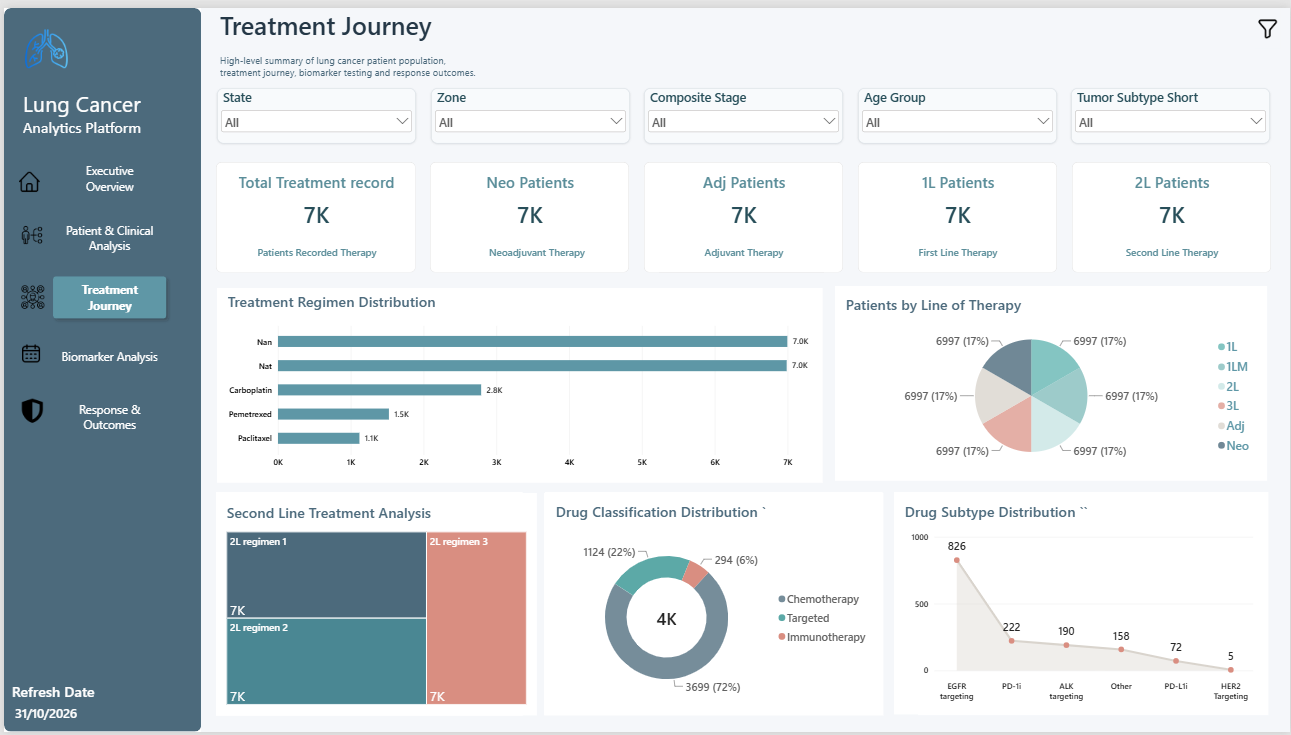

The dashboard page shown, as its layout file describes it:
{"tool":"powerbi","page":{"name":"Treatment Journey","canvas":[1920,1080],"ordinal":2},"visuals":[{"type":"shape","title":"Plane","box":[0,0,294.5,1080.4],"z":0,"group":"g1"},{"type":"group","id":"g1","title":"Filter Plane","box":[0,0,294.5,1080.4],"z":0,"group":"g5"},{"type":"textbox","box":[323.1,0,656.3,108.4],"z":0},{"type":"cardVisual","fields":{"Data":["LOT.Total Treatment record"]},"box":[316.3,229.7,298.7,165.8],"z":0,"group":"g2"},{"type":"image","box":[24.1,302.3,36.3,72.7],"z":0,"group":"g3"},{"type":"textbox","box":[11.4,1006.2,174.9,31.8],"z":0,"group":"g8"},{"type":"image","box":[27.8,16.7,69.7,89.1],"z":1000,"group":"g1"},{"type":"pageNavigator","box":[63.6,213.8,187.1,438.2],"z":1000,"group":"g5"},{"type":"cardVisual","fields":{"Data":["LOT.Neo Patients"]},"box":[636.2,229.7,297.9,165.8],"z":1000,"group":"g2"},{"type":"shape","box":[318,418,904,290.7],"z":1000},{"type":"image","box":[24.1,576.5,36.6,50.4],"z":1000,"group":"g3"},{"type":"shape","box":[806.3,724.3,506.5,331.9],"z":1000,"group":"g6"},{"type":"cardVisual","fields":{"Data":["Dim_Patient.Refresh Date Display"]},"box":[0,1038,156.7,31],"z":1000,"group":"g8"},{"type":"slicer","fields":{"Values":["Dim_Patient.Tumor Subtype Short"]},"box":[1592.9,120.1,297.4,83.3],"z":2000,"group":"g7"},{"type":"textbox","box":[27.8,120.5,183.4,92.7],"z":2000,"group":"g1"},{"type":"image","box":[23.1,228.2,31.4,61.6],"z":2000,"group":"g3"},{"type":"group","id":"g2","title":"KPIs","box":[316.3,229.7,1575,165.8],"z":2000},{"type":"cardVisual","fields":{"Data":["LOT.1L Patients"]},"box":[1274.3,229.7,297.9,165],"z":2000,"group":"g2"},{"type":"group","id":"g3","title":"Group 3","box":[23.1,228.2,37.6,398.6],"z":3000,"group":"g1"},{"type":"cardVisual","fields":{"Data":["LOT.Adj Patients"]},"box":[955.2,229.7,297.9,165.8],"z":3000,"group":"g2"},{"type":"image","box":[25.9,405.8,34.8,50.4],"z":3000,"group":"g3"},{"type":"group","id":"g4","title":"Group 4","box":[1239.7,413,645.5,292.5],"z":3000},{"type":"shape","box":[1240.2,414.8,645.1,290.7],"z":3000,"group":"g4"},{"type":"slicer","fields":{"Values":["Dim_Patient.Age Group"]},"box":[1274.1,120.1,297.4,83.3],"z":4000,"group":"g7"},{"type":"cardVisual","fields":{"Data":["LOT.2L Patients"]},"box":[1593.4,229.7,297.9,165.8],"z":4000,"group":"g2"},{"type":"barChart","title":"Treatment Regimen Distribution","fields":{"Category":["LOT.Drug"],"Y":["LOT.Total Treatment record"]},"box":[318,408.8,906.3,297.5],"z":4000},{"type":"image","box":[27.7,481.3,27.5,67.2],"z":4000,"group":"g3"},{"type":"group","id":"g5","title":"Group 6","box":[0,0,294.5,1080.4],"z":5000},{"type":"slicer","fields":{"Values":["Dim_Patient.Zone"]},"box":[636.4,120.1,297.4,83.3],"z":5000,"group":"g7"},{"type":"donutChart","title":"Drug Classification Distribution `","fields":{"Category":["LOT.Classification"],"Y":["LOT.Total Treatment record"]},"box":[807.5,722.3,503.9,332.6],"z":5000,"group":"g6"},{"type":"slicer","fields":{"Values":["lung_cancer_analysis.COMPOSITE STAGE"]},"box":[955.3,120.1,297.4,83.3],"z":6000,"group":"g7"},{"type":"shape","box":[1363.5,722.4,522.9,333.1],"z":6000},{"type":"shape","box":[316.7,722.5,457.7,334],"z":7000},{"type":"lineChart","title":"Drug Subtype Distribution ``","fields":{"Category":["LOT.SubType"],"Y":["LOT.Total Treatment record"]},"box":[1328.7,722.3,556.5,331.6],"z":8000},{"type":"treemap","title":"Second Line Treatment Analysis","fields":{"Group":["secondline_treatment.variable"],"Values":["LOT.Total Treatment record"]},"box":[315.7,724.5,479.2,331.6],"z":9000},{"type":"image","box":[1867,0,38,61],"z":10000},{"type":"pieChart","title":"Patients by Line of Therapy","fields":{"Category":["LOT.flag"],"Y":["Count(LOT.patient id)"]},"box":[1239.7,413,642.8,288.5],"z":10002,"group":"g4"},{"type":"group","id":"g6","title":"Group 1","box":[806.3,722.3,506.5,333.9],"z":11000},{"type":"group","id":"g7","title":"Group 2","box":[317.6,120.1,1572.7,83.3],"z":12000},{"type":"slicer","fields":{"Values":["Dim_Patient.State"]},"box":[317.6,120.1,297.4,83.3],"z":12001,"group":"g7"},{"type":"textbox","box":[1274.2,354,298.4,42.6],"z":13000},{"type":"textbox","box":[1634.2,354,217.9,47.4],"z":14000},{"type":"textbox","box":[646.6,354,298.4,43],"z":15000},{"type":"textbox","box":[954.5,354,298.4,28.4],"z":16000},{"type":"textbox","box":[317.4,354,298.4,43],"z":17000},{"type":"group","id":"g8","title":"Group 1","box":[0,1006.2,186.2,62.8],"z":17001}]}

Visuals, with their boxes on the page's 1920x1080 design canvas (x1, y1, x2, y2). These are canvas units, not pixel positions in the 1291x735 screenshot, which may show the page scaled, cropped or inside an application window:
"Plane" shape: (x1=0, y1=0, x2=294, y2=1080)
"Filter Plane" group: (x1=0, y1=0, x2=294, y2=1080)
textbox: (x1=323, y1=0, x2=979, y2=108)
cardVisual - LOT.Total Treatment record: (x1=316, y1=230, x2=615, y2=396)
image: (x1=24, y1=302, x2=60, y2=375)
textbox: (x1=11, y1=1006, x2=186, y2=1038)
image: (x1=28, y1=17, x2=98, y2=106)
pageNavigator: (x1=64, y1=214, x2=251, y2=652)
cardVisual - LOT.Neo Patients: (x1=636, y1=230, x2=934, y2=396)
shape: (x1=318, y1=418, x2=1222, y2=709)
image: (x1=24, y1=576, x2=61, y2=627)
shape: (x1=806, y1=724, x2=1313, y2=1056)
cardVisual - Dim_Patient.Refresh Date Display: (x1=0, y1=1038, x2=157, y2=1069)
slicer - Dim_Patient.Tumor Subtype Short: (x1=1593, y1=120, x2=1890, y2=203)
textbox: (x1=28, y1=120, x2=211, y2=213)
image: (x1=23, y1=228, x2=54, y2=290)
"KPIs" group: (x1=316, y1=230, x2=1891, y2=396)
cardVisual - LOT.1L Patients: (x1=1274, y1=230, x2=1572, y2=395)
"Group 3" group: (x1=23, y1=228, x2=61, y2=627)
cardVisual - LOT.Adj Patients: (x1=955, y1=230, x2=1253, y2=396)
image: (x1=26, y1=406, x2=61, y2=456)
"Group 4" group: (x1=1240, y1=413, x2=1885, y2=706)
shape: (x1=1240, y1=415, x2=1885, y2=706)
slicer - Dim_Patient.Age Group: (x1=1274, y1=120, x2=1572, y2=203)
cardVisual - LOT.2L Patients: (x1=1593, y1=230, x2=1891, y2=396)
"Treatment Regimen Distribution" barChart: (x1=318, y1=409, x2=1224, y2=706)
image: (x1=28, y1=481, x2=55, y2=548)
"Group 6" group: (x1=0, y1=0, x2=294, y2=1080)
slicer - Dim_Patient.Zone: (x1=636, y1=120, x2=934, y2=203)
"Drug Classification Distribution `" donutChart: (x1=808, y1=722, x2=1311, y2=1055)
slicer - lung_cancer_analysis.COMPOSITE STAGE: (x1=955, y1=120, x2=1253, y2=203)
shape: (x1=1364, y1=722, x2=1886, y2=1056)
shape: (x1=317, y1=722, x2=774, y2=1056)
"Drug Subtype Distribution ``" lineChart: (x1=1329, y1=722, x2=1885, y2=1054)
"Second Line Treatment Analysis" treemap: (x1=316, y1=724, x2=795, y2=1056)
image: (x1=1867, y1=0, x2=1905, y2=61)
"Patients by Line of Therapy" pieChart: (x1=1240, y1=413, x2=1882, y2=702)
"Group 1" group: (x1=806, y1=722, x2=1313, y2=1056)
"Group 2" group: (x1=318, y1=120, x2=1890, y2=203)
slicer - Dim_Patient.State: (x1=318, y1=120, x2=615, y2=203)
textbox: (x1=1274, y1=354, x2=1573, y2=397)
textbox: (x1=1634, y1=354, x2=1852, y2=401)
textbox: (x1=647, y1=354, x2=945, y2=397)
textbox: (x1=954, y1=354, x2=1253, y2=382)
textbox: (x1=317, y1=354, x2=616, y2=397)
"Group 1" group: (x1=0, y1=1006, x2=186, y2=1069)
